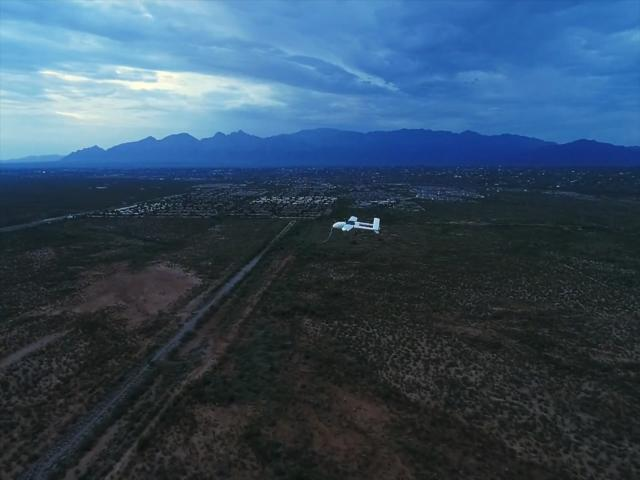plane: (334, 216, 382, 237)
